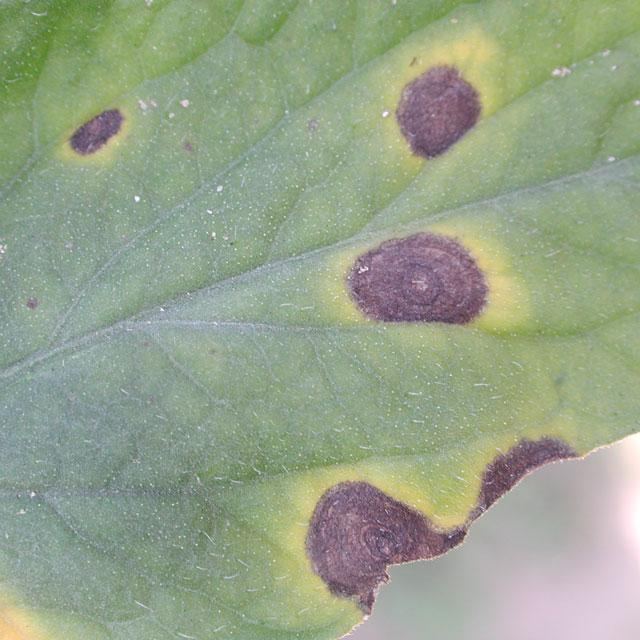Tomato Early blight leaf: (0, 0, 640, 633)
